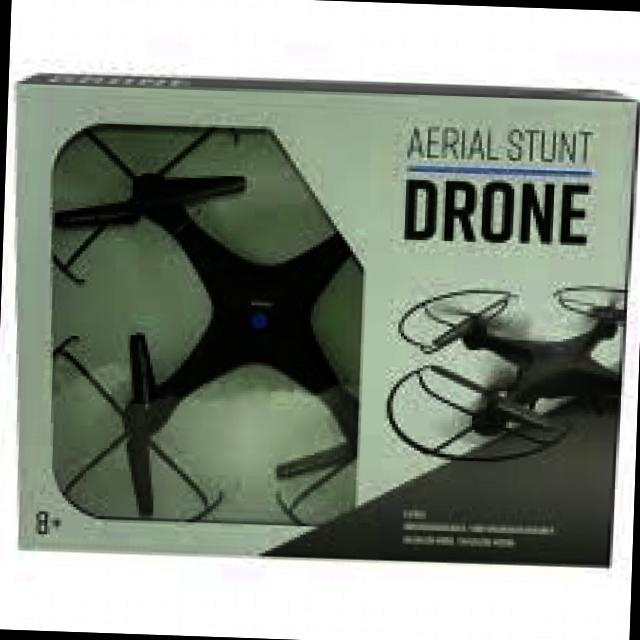drone: (35, 108, 435, 536), (383, 263, 636, 472)
